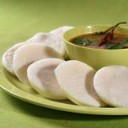idly: (56, 59, 106, 108), (15, 45, 65, 91), (28, 57, 69, 97), (95, 65, 128, 105)
